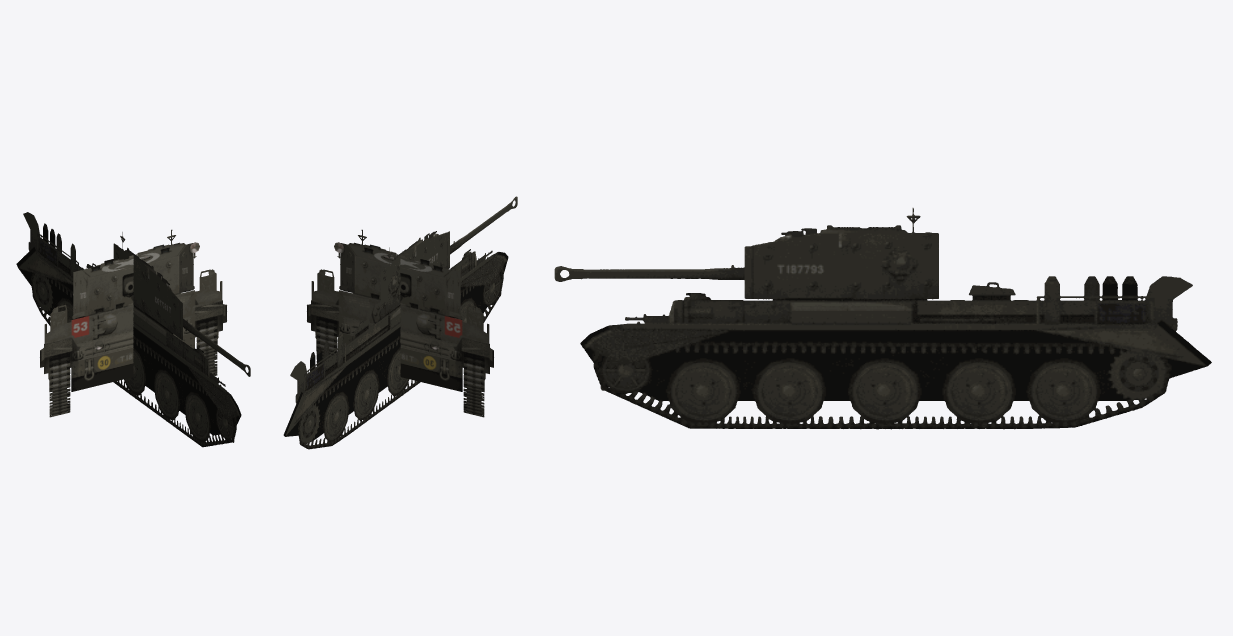
The model's file is cromwell_iv_42manako_m_bb.glb.
3 renders of one model, left to right at view 1: azimuth 30°, elevation 25°; view 2: azimuth 150°, elevation 25°; view 3: azimuth 270°, elevation 25°, orthographic. The views are drawn at different scales.
Parts seen in each view (by area): view 1: cromwell_iv_42manako_m_bb; view 2: cromwell_iv_42manako_m_bb; view 3: cromwell_iv_42manako_m_bb.
Part boxes in pixels (x1,y1,x2,y2): cromwell_iv_42manako_m_bb: (16,212,250,447); cromwell_iv_42manako_m_bb: (283,196,517,449); cromwell_iv_42manako_m_bb: (554,208,1211,429).
Bounding box in the file's own units: 3.21 × 6.95 × 6.95.
1 material, 1 textured.
